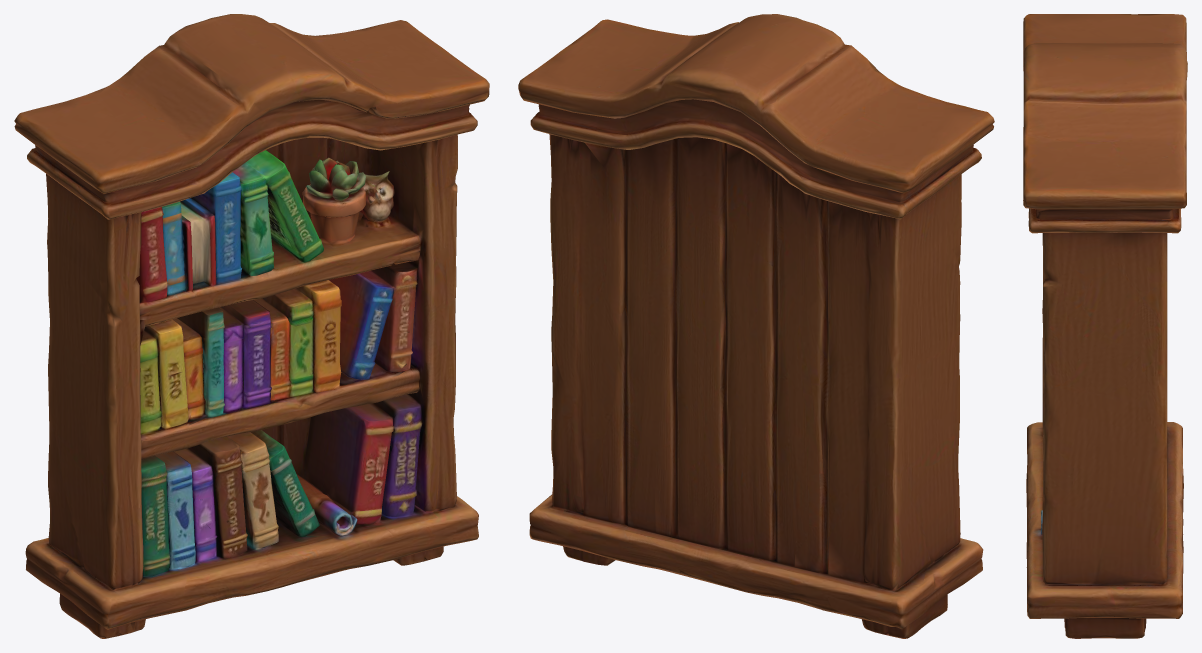
File: bookshelf.glb
3 renders of one model, left to right at view 1: azimuth 30°, elevation 25°; view 2: azimuth 150°, elevation 25°; view 3: azimuth 270°, elevation 25°, orthographic. The views are drawn at different scales.
Parts seen in each view (by area): view 1: tripo_node_b00a0fd1-5d37-4919-85e4-8e4da72b5458; view 2: tripo_node_b00a0fd1-5d37-4919-85e4-8e4da72b5458; view 3: tripo_node_b00a0fd1-5d37-4919-85e4-8e4da72b5458.
Boxes of the visible parts, x1,y1,x2,y2 form: tripo_node_b00a0fd1-5d37-4919-85e4-8e4da72b5458: (14,14,489,638); tripo_node_b00a0fd1-5d37-4919-85e4-8e4da72b5458: (518,14,994,638); tripo_node_b00a0fd1-5d37-4919-85e4-8e4da72b5458: (1023,14,1187,638).
Bounding box in the file's own units: 0.748 × 0.9795 × 0.2887.
1 material, 1 textured.
